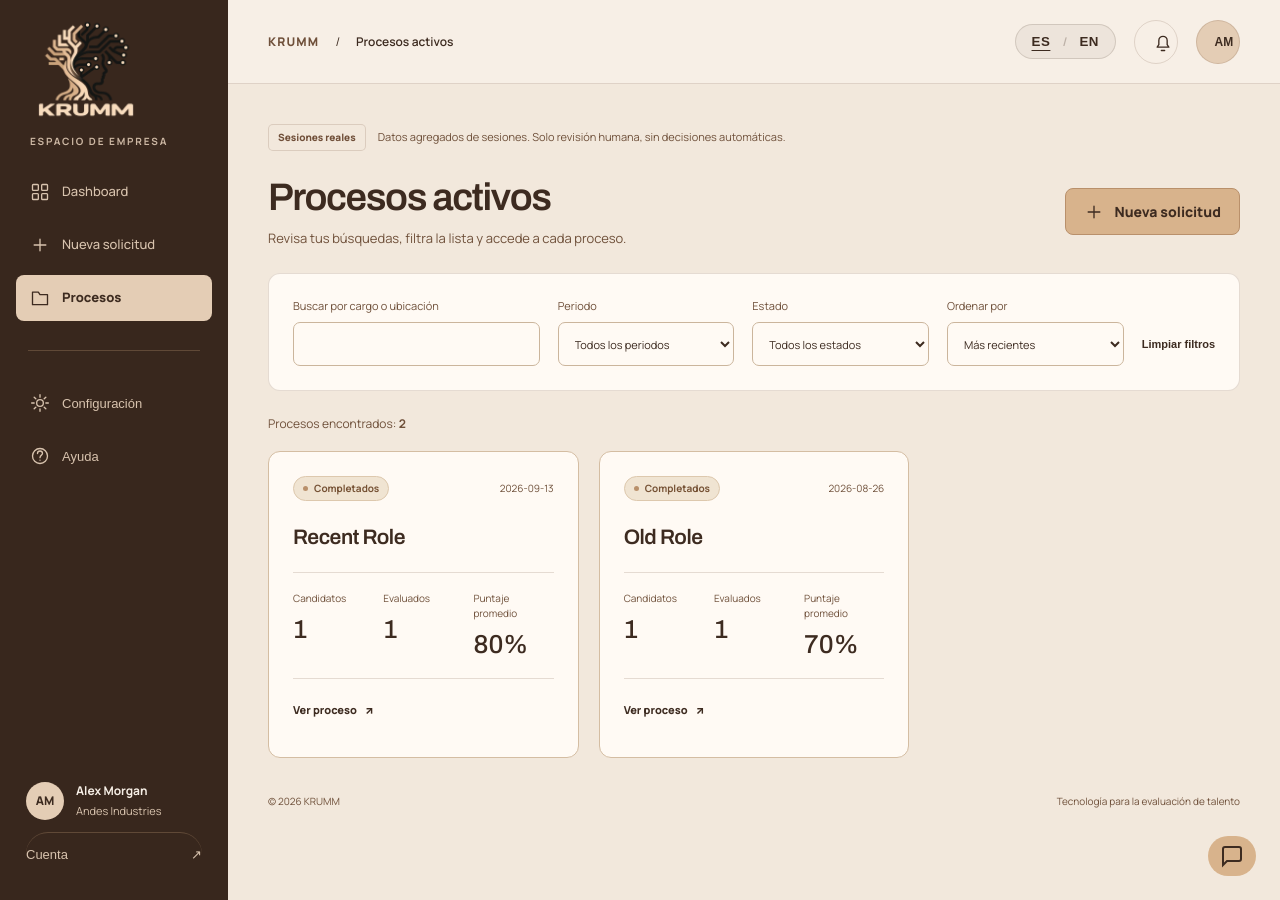
Test case: B3 (KRU-50) — filtros real + brief + exports › filtro Periodo (authed): 7d conserva solo procesos recientes (fixture determinista)
Expected: the text "Sesiones reales" is shown, left=268, top=124, right=366, bottom=151
Select "Últimos 7 días" in the dropdown labelled "Periodo" at x=646, y=344, box left=558, top=322, right=734, bottom=366
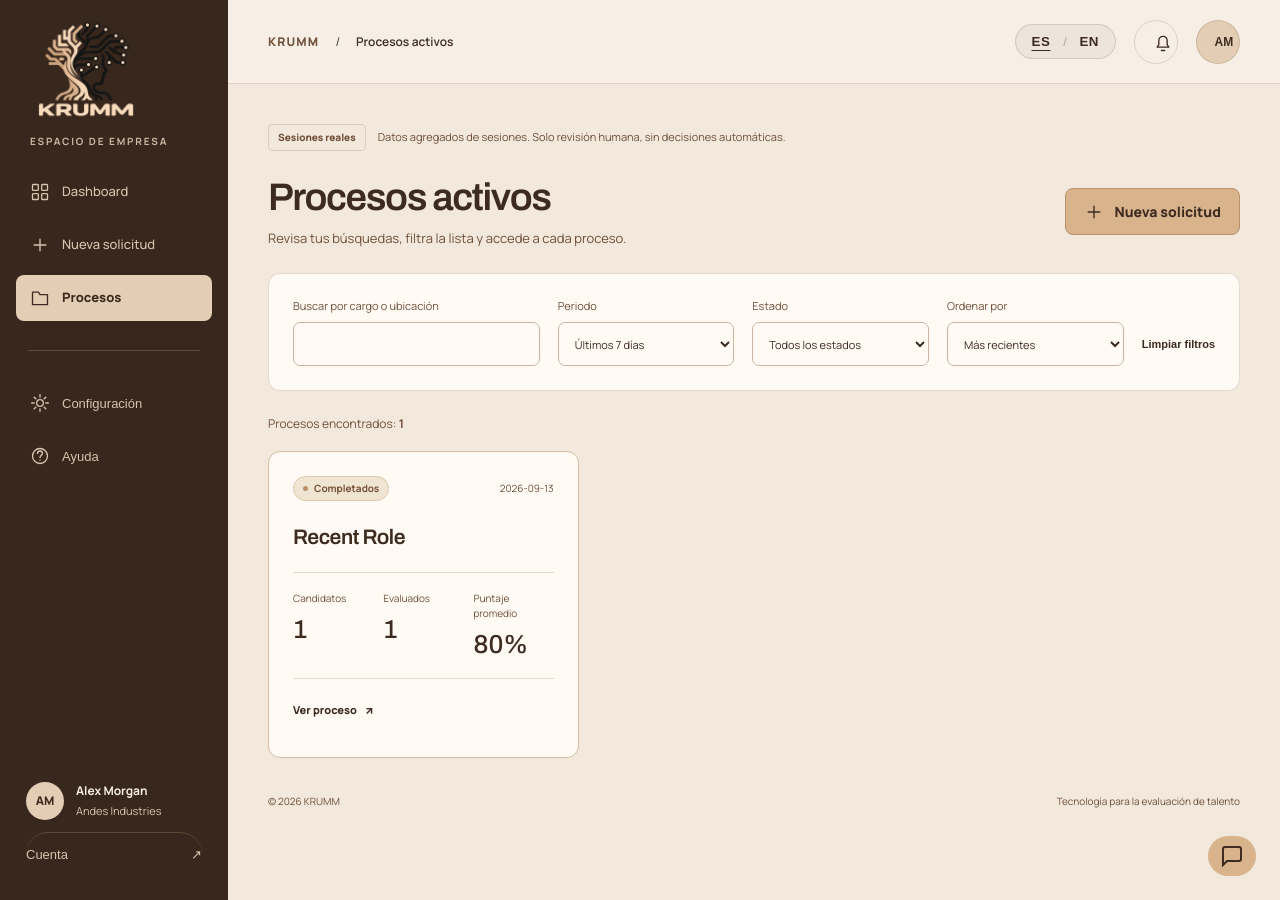
Expected: the element with test id "v2-card-recent-role" is shown, left=268, top=451, right=579, bottom=758
Expected: the text with test id "v2-process-count" reads "1", left=399, top=415, right=404, bottom=432
Expected: the element with test id "v2-card-old-role" is gone
30d: ambos
Select "Últimos 30 días" in the dropdown labelled "Periodo" at x=646, y=344, box left=558, top=322, right=734, bottom=366
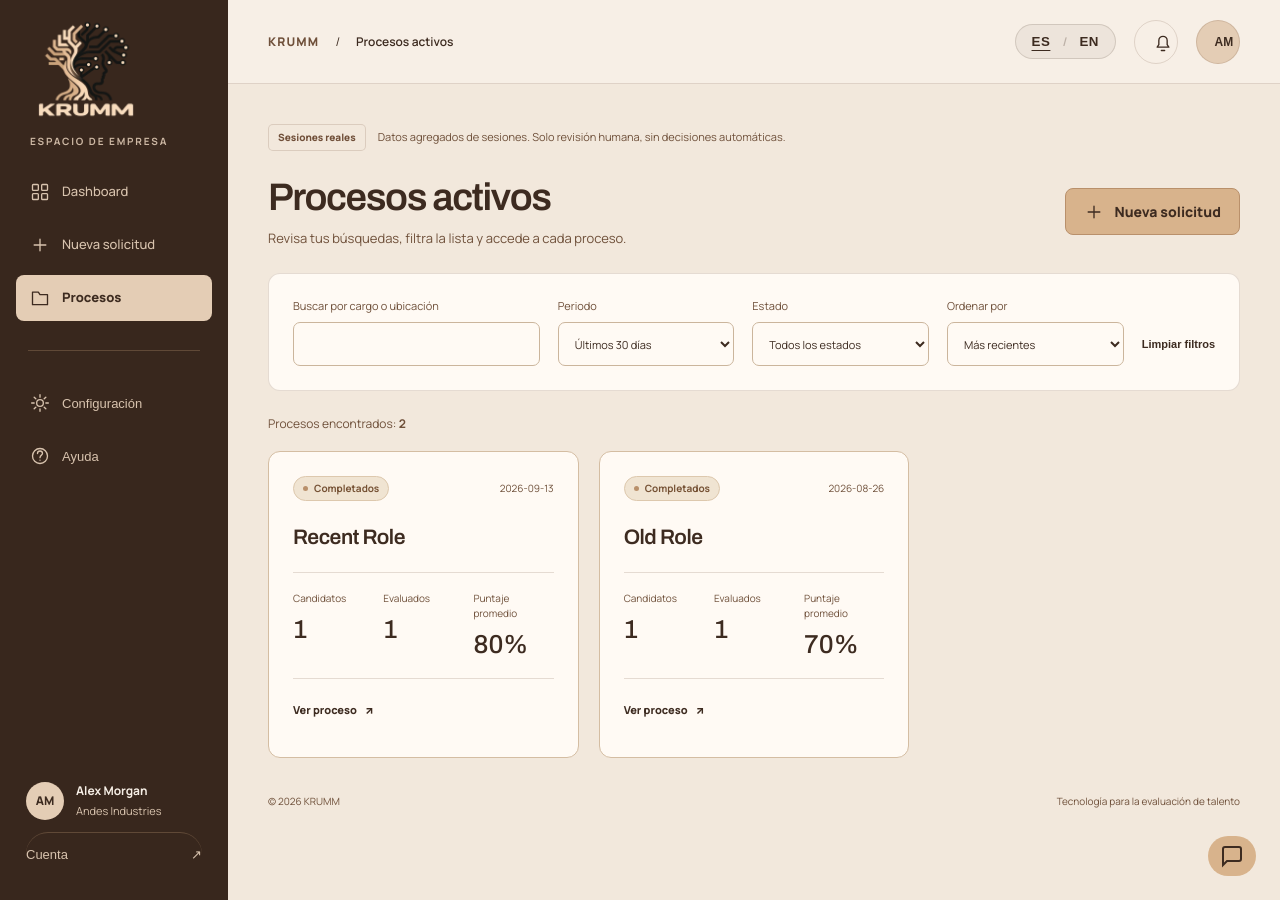
Expected: the text with test id "v2-process-count" reads "2", left=399, top=415, right=406, bottom=432
